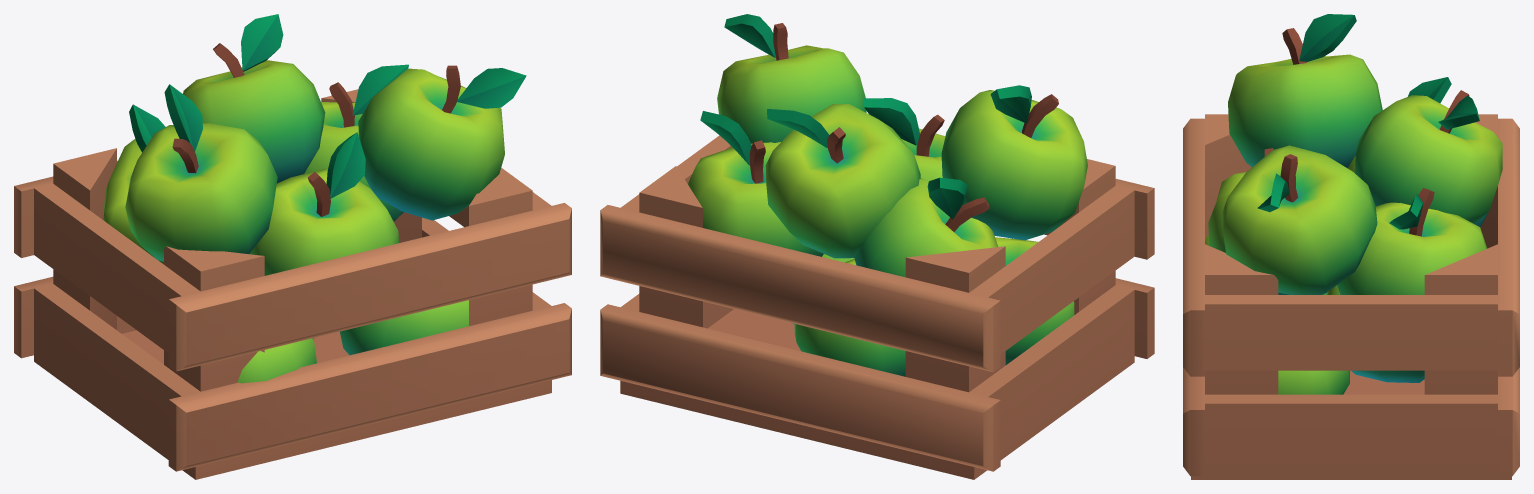
File: prop_crate_apples.glb
3 renders of one model, left to right at view 1: azimuth 30°, elevation 25°; view 2: azimuth 150°, elevation 25°; view 3: azimuth 270°, elevation 25°, orthographic.
Parts seen in each view (by area): view 1: Food_Crate_Large_Apples; view 2: Food_Crate_Large_Apples; view 3: Food_Crate_Large_Apples.
Boxes of the visible parts, box(x1,y1,x2,y2) form: Food_Crate_Large_Apples: box(14, 14, 571, 479); Food_Crate_Large_Apples: box(600, 14, 1154, 479); Food_Crate_Large_Apples: box(1183, 14, 1519, 479).
Bounding box in the file's own units: 1.03 × 0.802 × 0.7657.
Materials: 1 (1 with a texture image).
